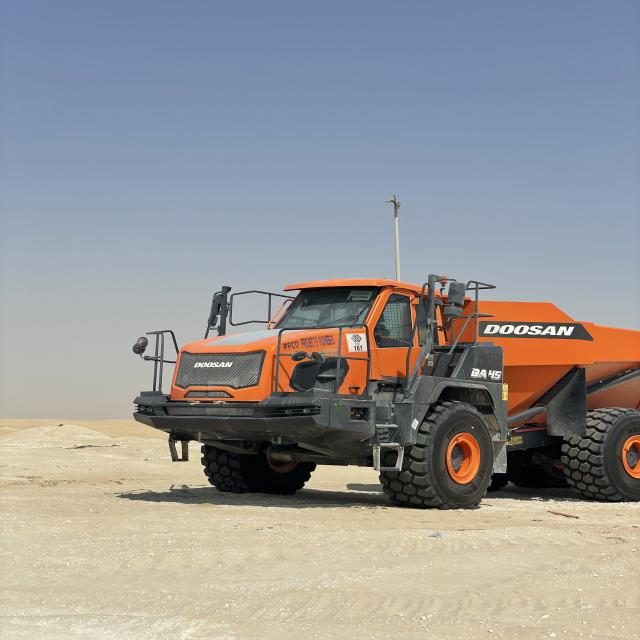dump_truck: (123, 267, 640, 516)
